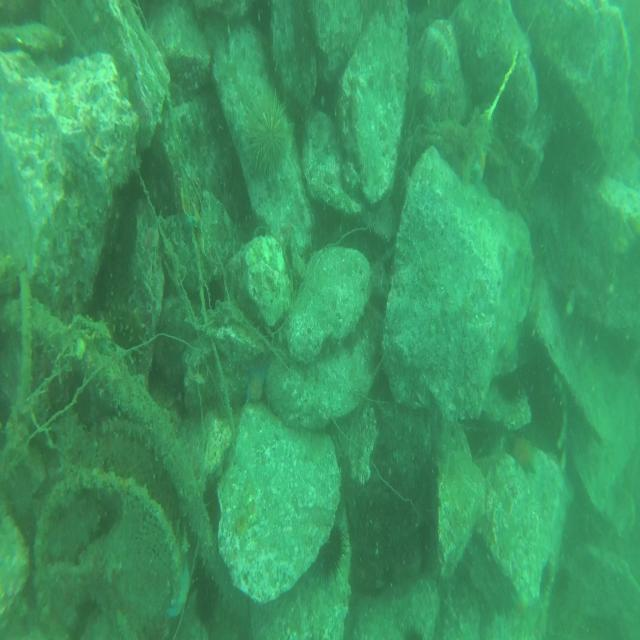echinus: (241, 91, 293, 195), (318, 527, 345, 576), (396, 622, 426, 640)
starfish: (508, 429, 540, 479), (169, 564, 194, 626), (242, 361, 267, 411), (474, 148, 489, 191), (188, 202, 204, 240), (182, 210, 194, 239)
